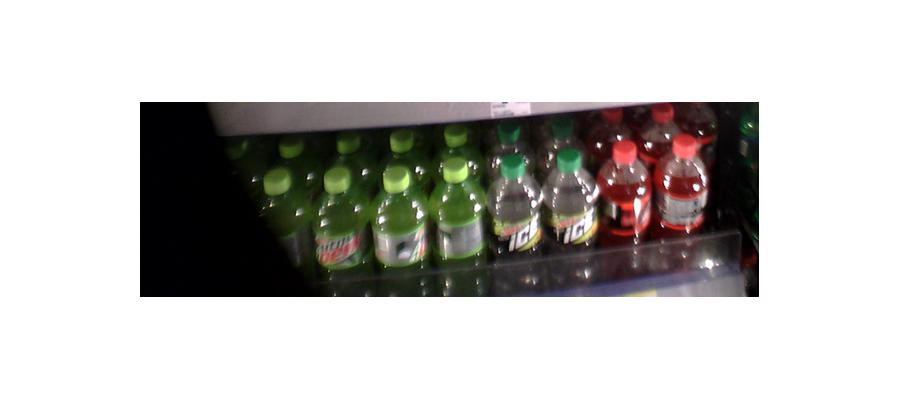bottle: (315, 157, 373, 294), (489, 144, 543, 287), (431, 157, 485, 297), (372, 162, 429, 294), (544, 143, 598, 281), (654, 134, 710, 266), (598, 135, 650, 268)
